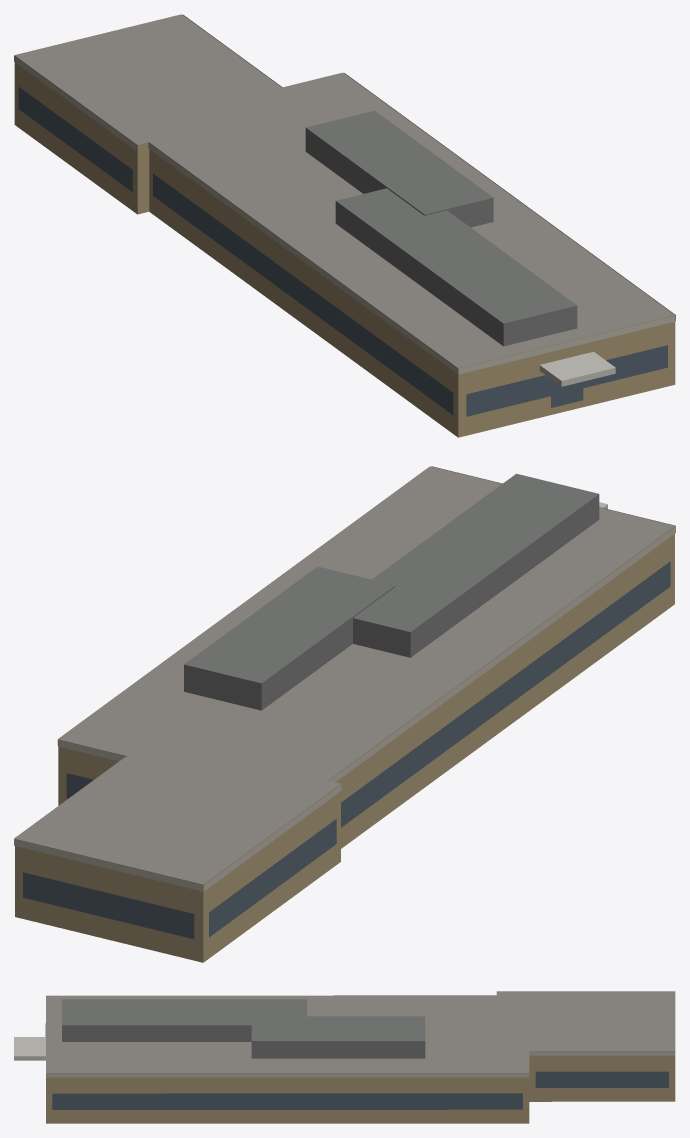
File: arkansas-teachers-association-hq.glb
3 renders of one model, top to bottom at view 1: azimuth 30°, elevation 25°; view 2: azimuth 150°, elevation 25°; view 3: azimuth 270°, elevation 25°, orthographic. The views are drawn at different scales.
Visible parts, largest first — view 1: arkansas_teachers_association_hq; view 2: arkansas_teachers_association_hq; view 3: arkansas_teachers_association_hq.
Boxes of the visible parts, x1,y1,x2,y2 form: arkansas_teachers_association_hq: (14, 14, 675, 437); arkansas_teachers_association_hq: (14, 466, 675, 962); arkansas_teachers_association_hq: (14, 991, 675, 1123).
Size of the model in its own units: 18.24 by 7.08 by 62.15.
